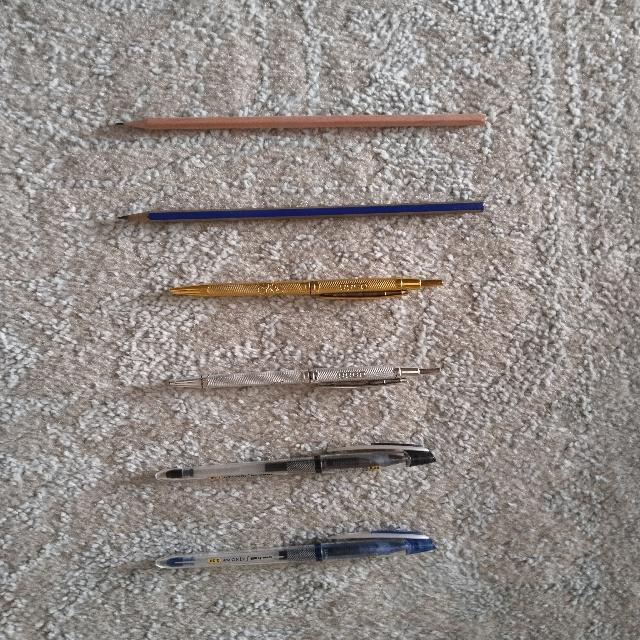pen: (156, 530, 435, 568), (156, 443, 434, 479)
pencil: (120, 201, 483, 221), (118, 113, 485, 129)
signature pen: (169, 365, 439, 388), (170, 277, 441, 298)
